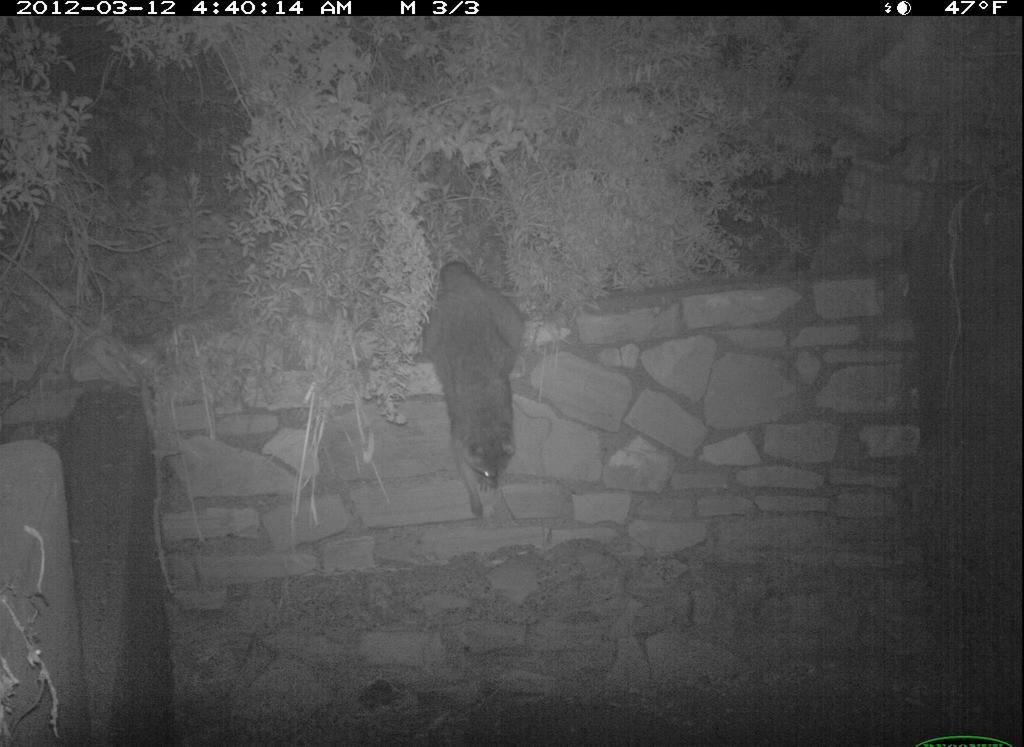raccoon: (406, 237, 556, 556)
